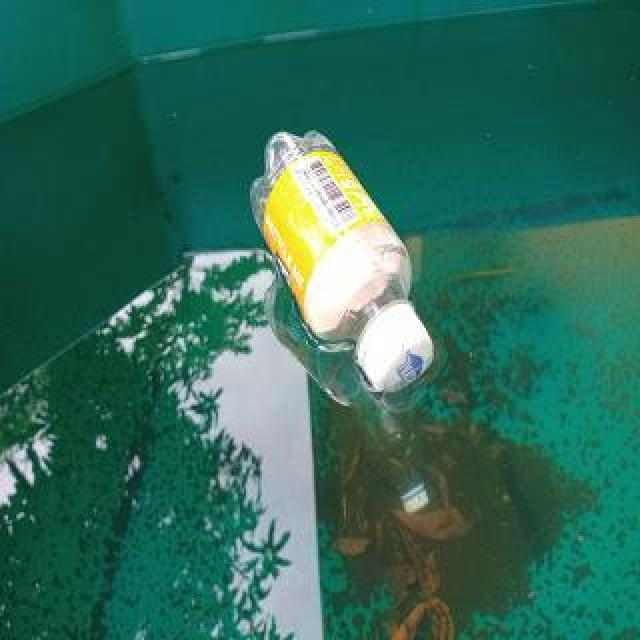bottle: (247, 120, 437, 396)
